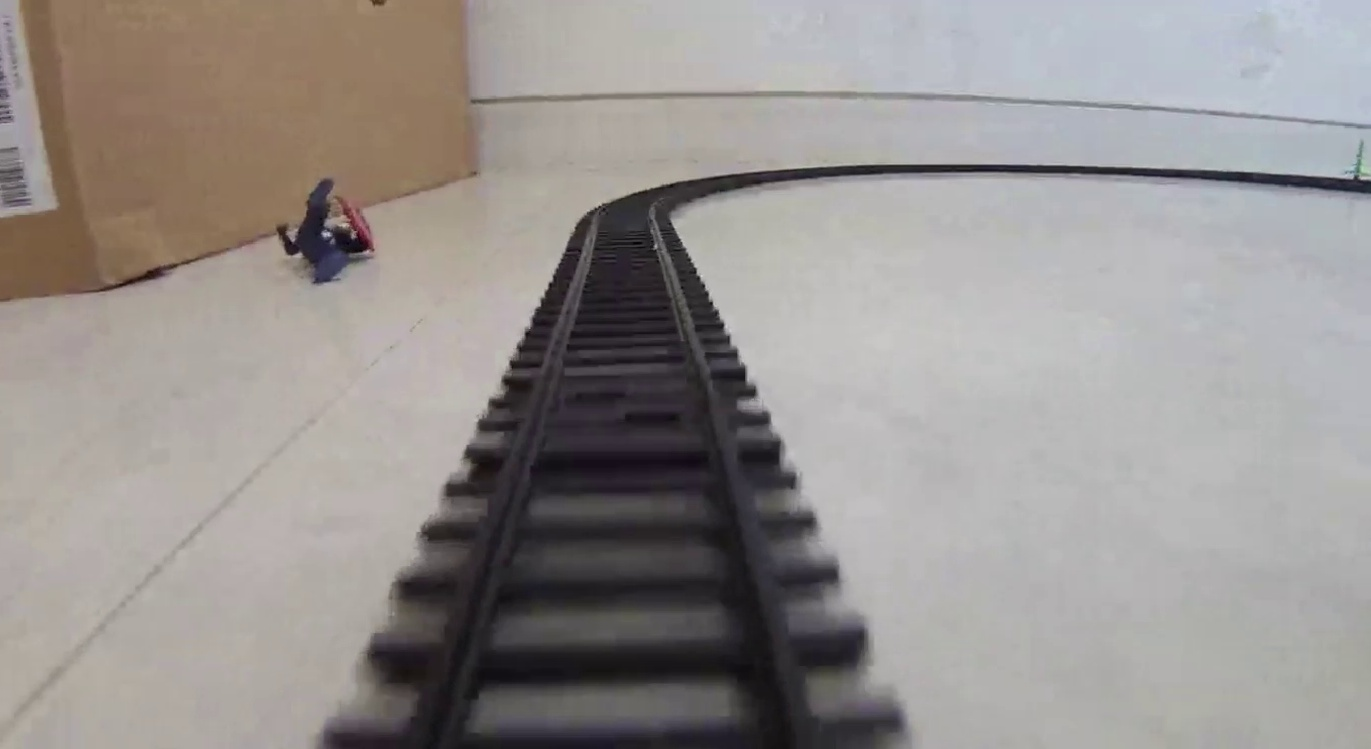people: (276, 178, 376, 284)
